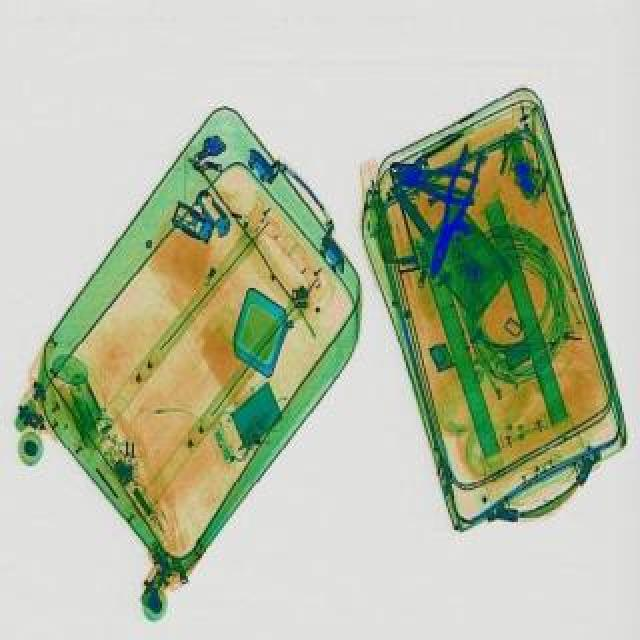wrench: (418, 140, 492, 280), (394, 158, 482, 202)
